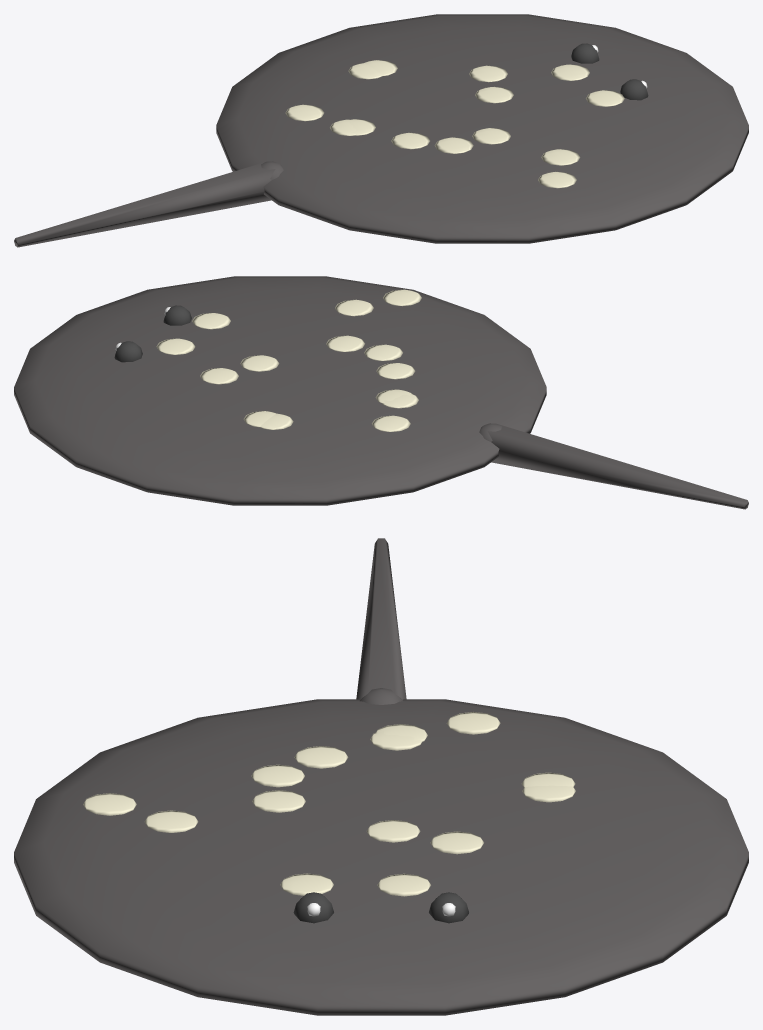
File: pearl-stingray.glb
3 views of the same model, one above another, from view 1: azimuth 30°, elevation 25°; view 2: azimuth 150°, elevation 25°; view 3: azimuth 270°, elevation 25° (orthographic). The views are drawn at different scales.
Visible parts, largest first — view 1: e; view 2: e; view 3: e.
Boxes of the visible parts, box(x1,y1,x2,y2) form: e: box(14, 14, 748, 247); e: box(14, 276, 748, 509); e: box(14, 538, 748, 1015).
Size of the model in its own units: 1.15 by 0.098 by 0.7621.
